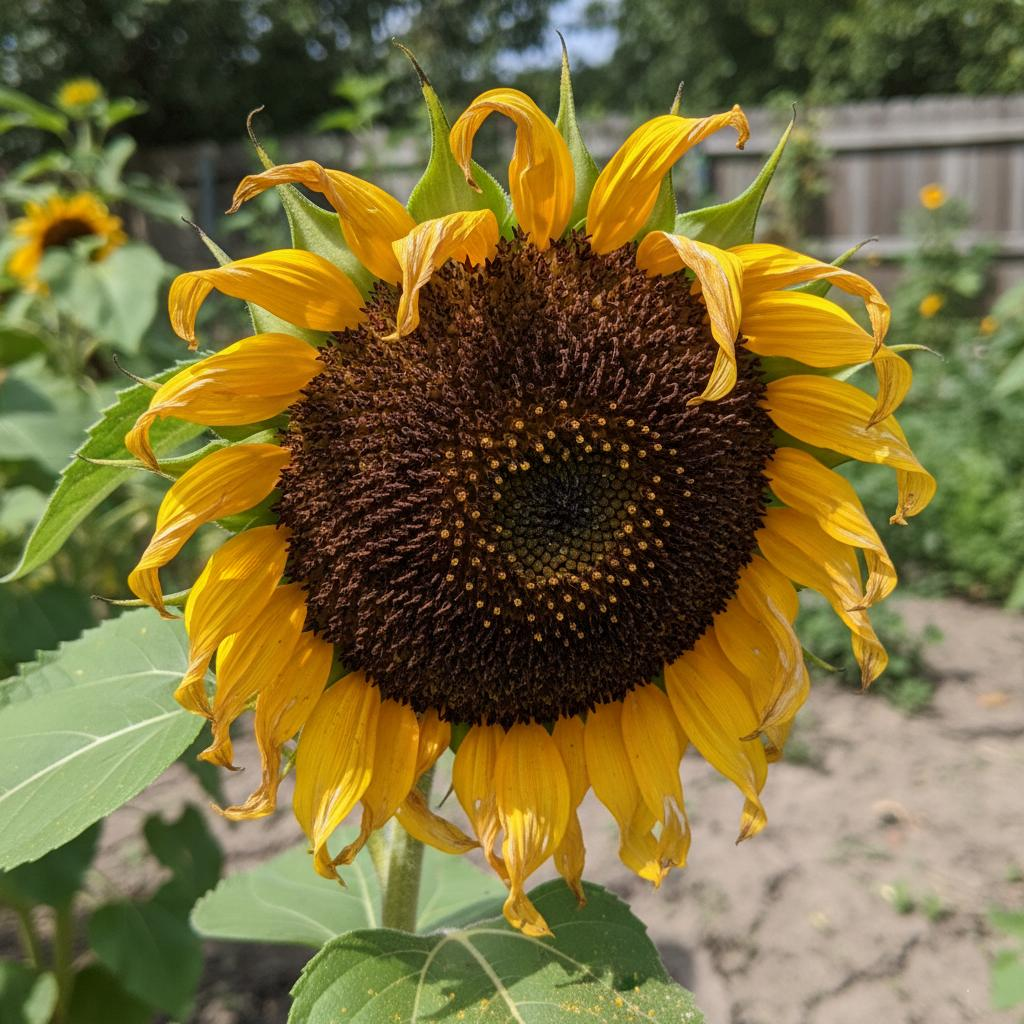sunflower: (114, 31, 940, 941)
